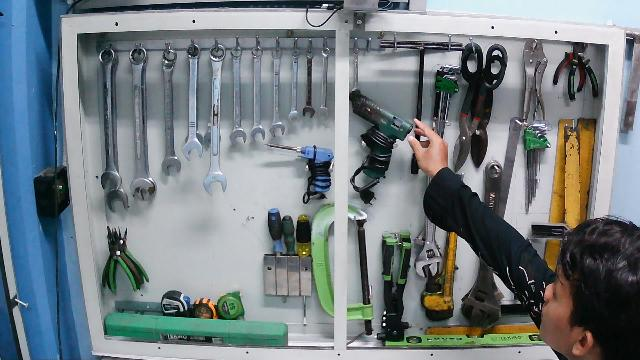gun_lem: (348, 86, 416, 206)
